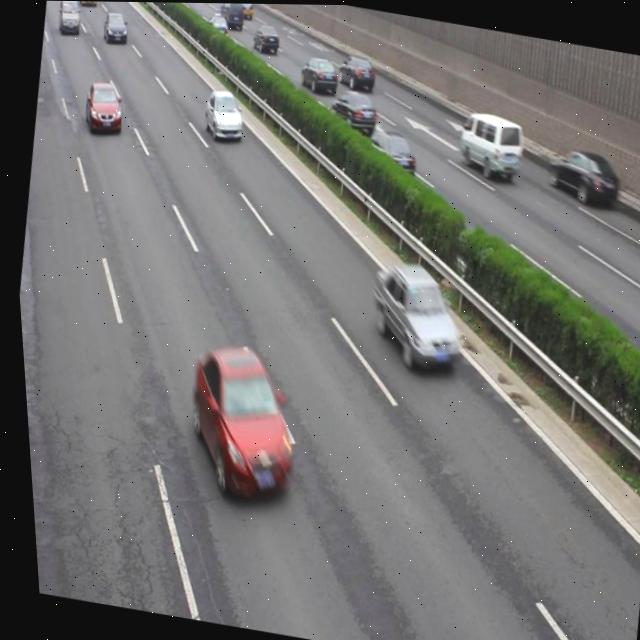car: (171, 341, 304, 502), (358, 258, 466, 371), (540, 141, 620, 208), (359, 126, 418, 177), (326, 84, 379, 133), (79, 78, 126, 133), (199, 90, 246, 144), (298, 54, 339, 93), (335, 52, 376, 90), (250, 22, 281, 54), (102, 12, 131, 45), (205, 11, 231, 36), (230, 3, 257, 19), (78, 1, 100, 7)
truck: (451, 107, 527, 181), (57, 1, 86, 34), (217, 3, 244, 28)
